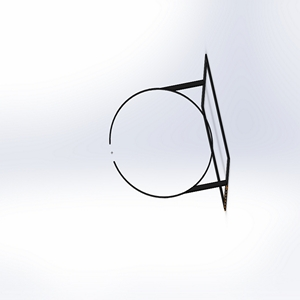circle: (108, 52, 232, 213)
